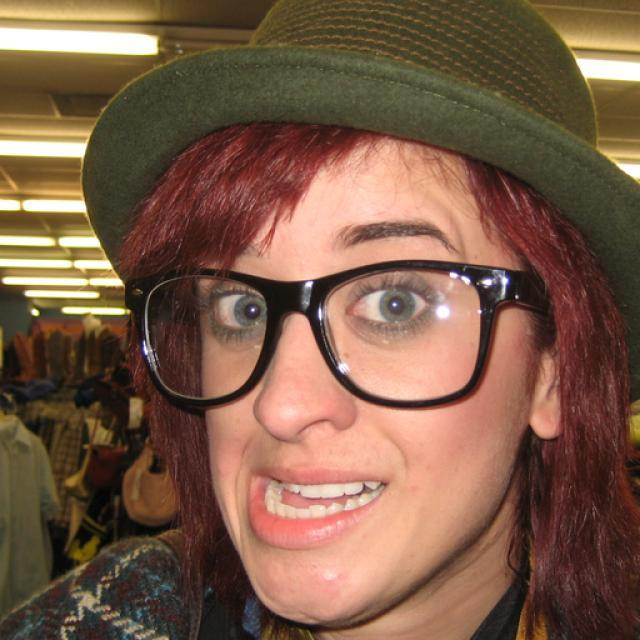surprise: (190, 122, 525, 630)
